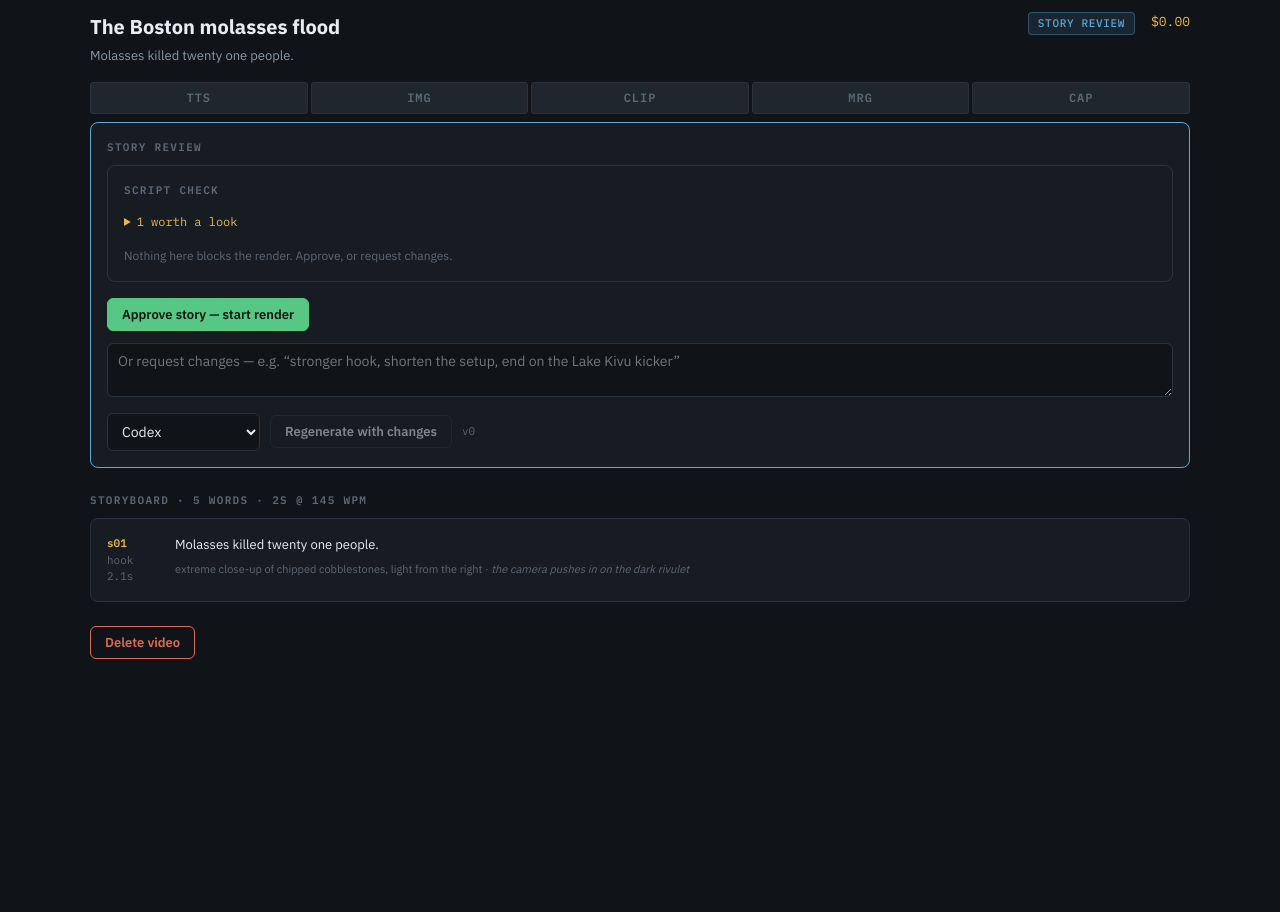
Test case: story review findings › keeps warnings collapsed until asked for
Click the heading "1 worth a look": click(187, 221) [137,214,238,228]
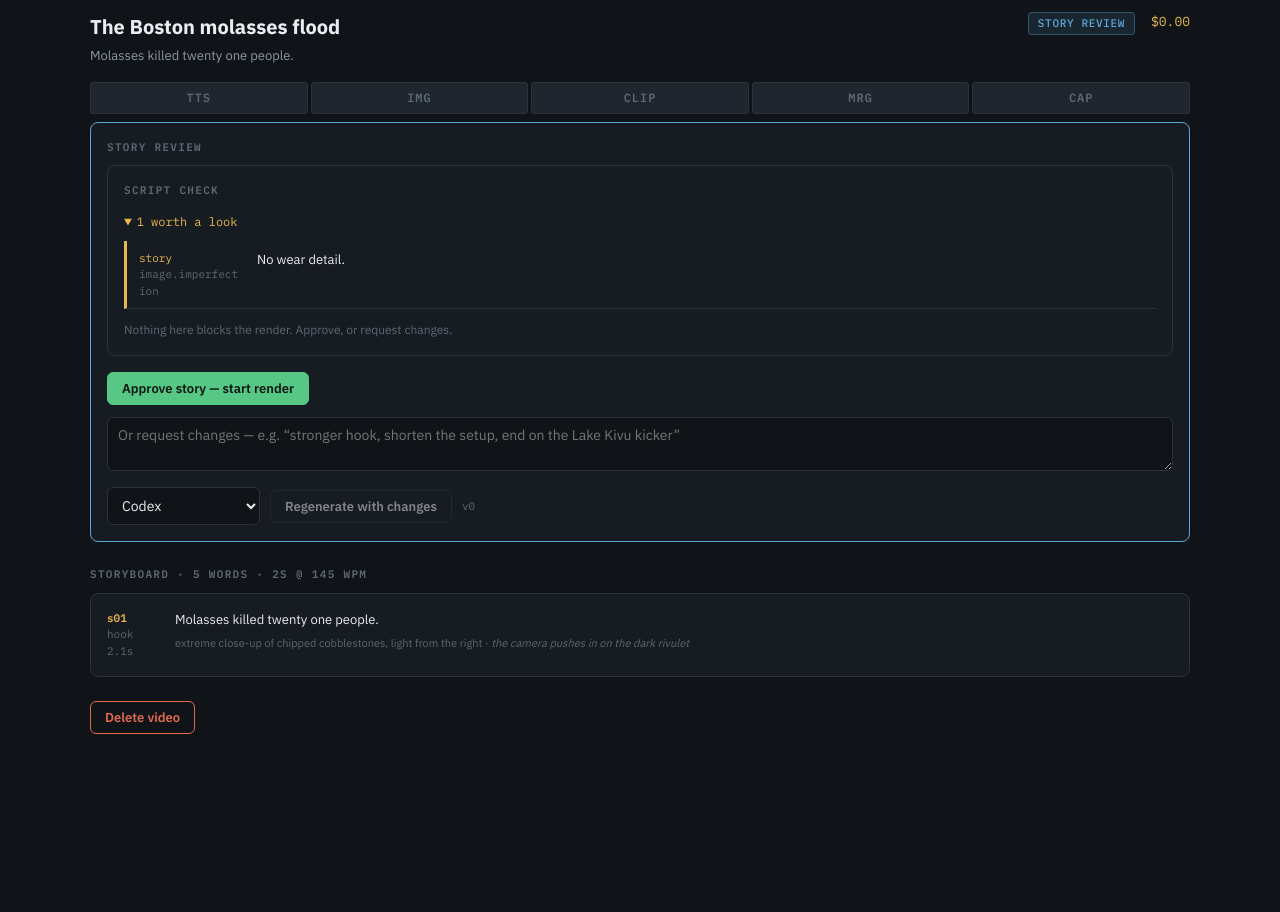
expect the text "No wear detail." is shown: met, box [257,250,345,268]
